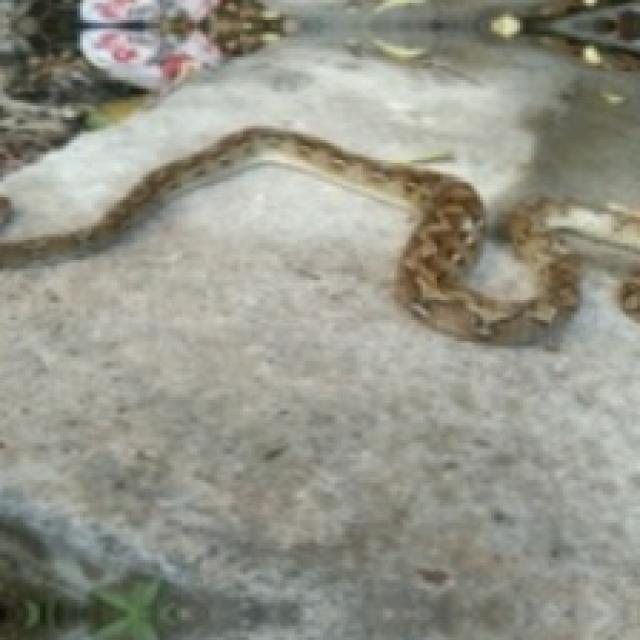reticulated python: (0, 126, 637, 343)
